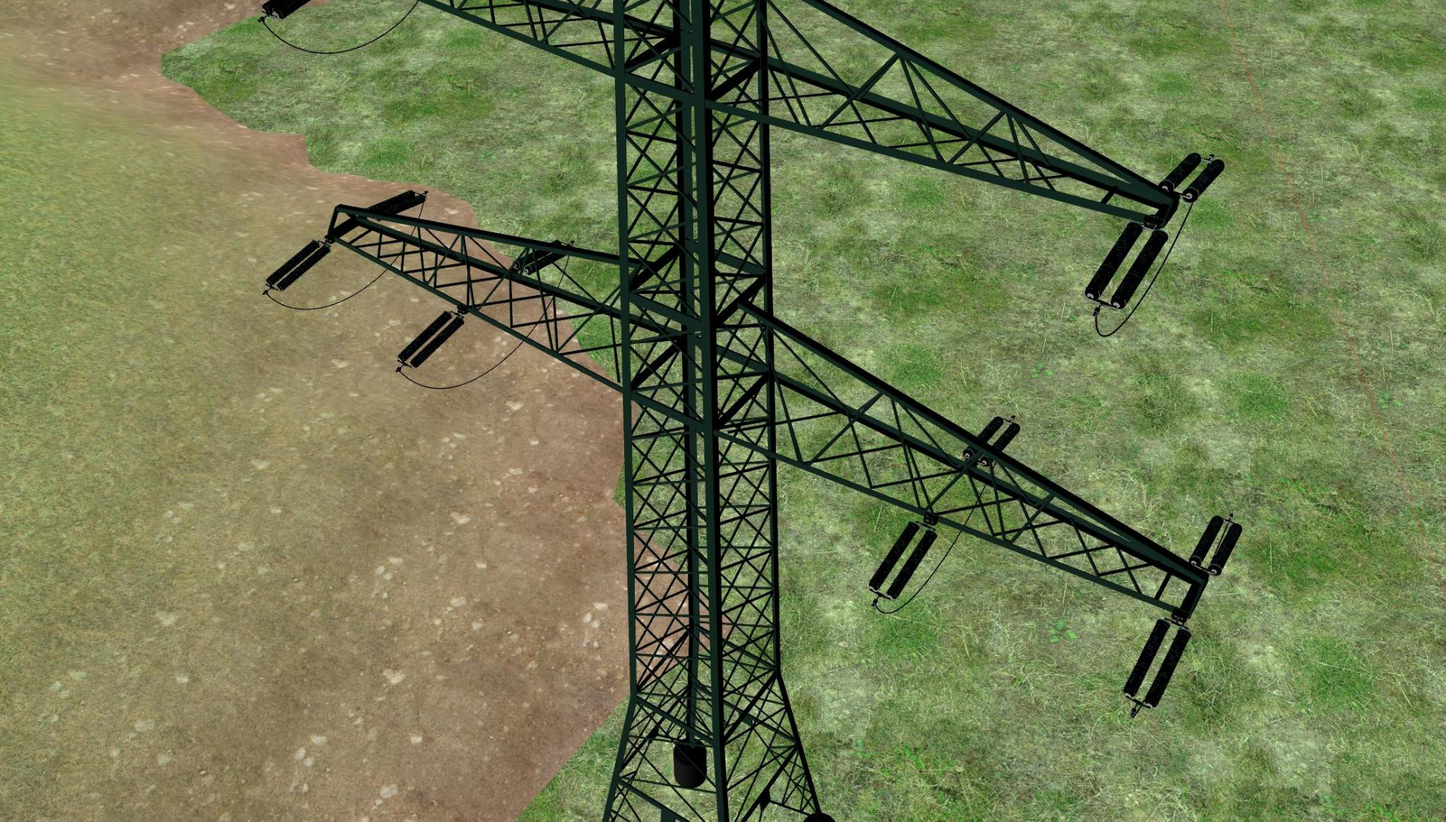tower: (318, 0, 1212, 822)
